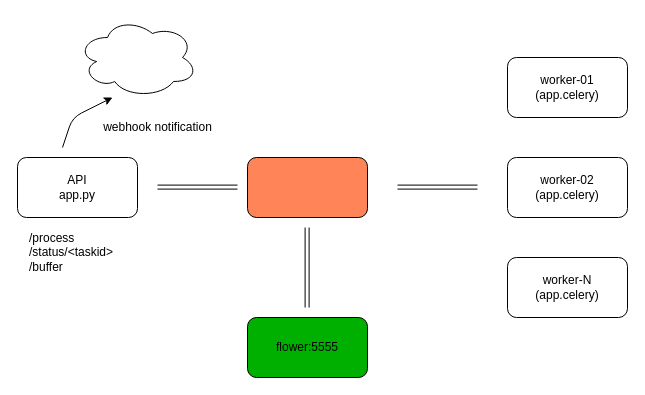
The diagram is 645 pixels wide and 395 high, and some of its shapes have lost their labels. The centre of each missing label's shape, as x and y in pixels:
broker:5672,8080 (rabbitMQ): the point at 307,187
MS Teams: the point at 137,57
